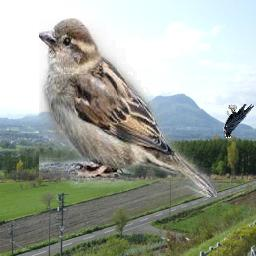Crow: (224, 104, 255, 138)
Sparrow: (39, 19, 217, 198)
